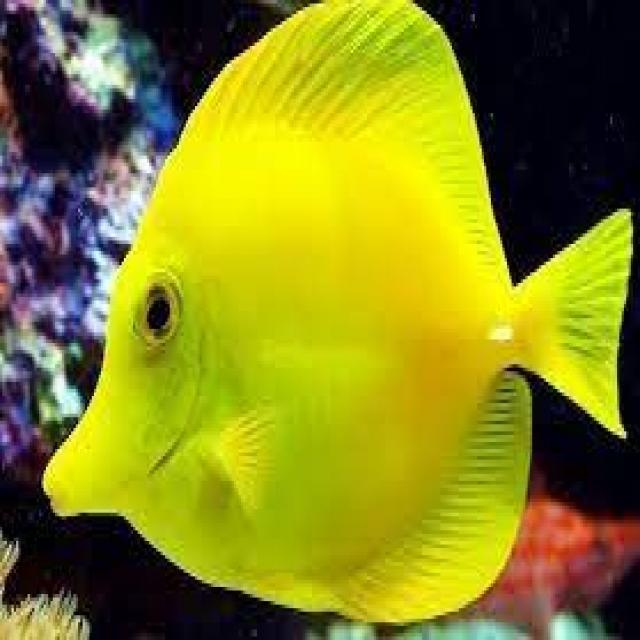TangFish: (34, 0, 634, 622)
